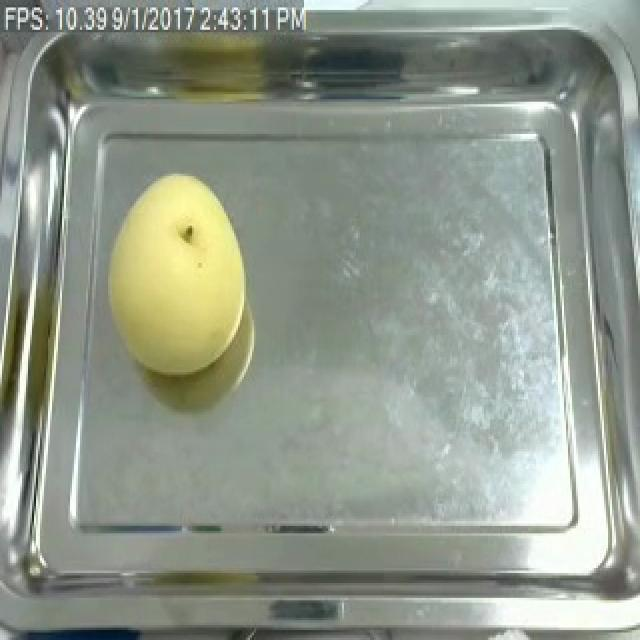Fruit: (88, 163, 258, 384)
